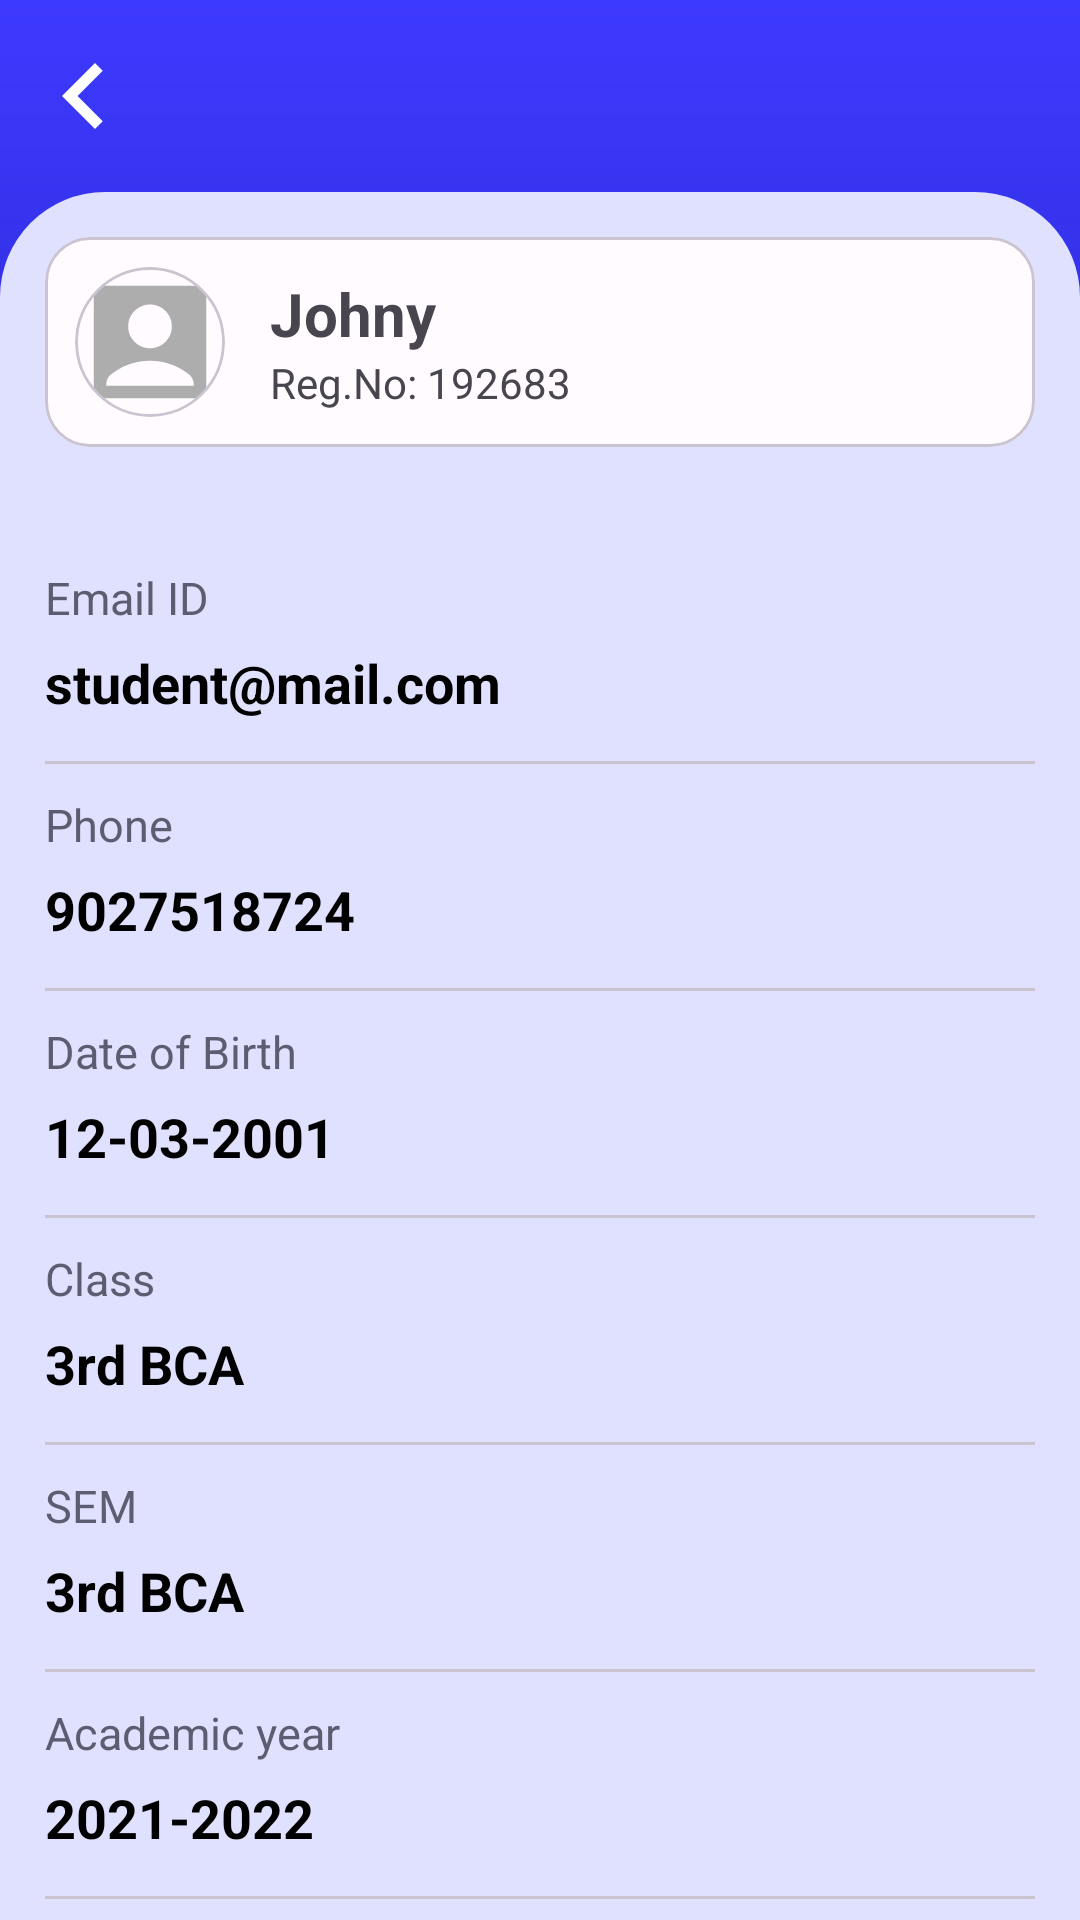

Named icons in this screenshot (1080px x 1920px) and their bounding boxes, (x1, y1, x2, y2):
Profile: (75, 267, 225, 417)
